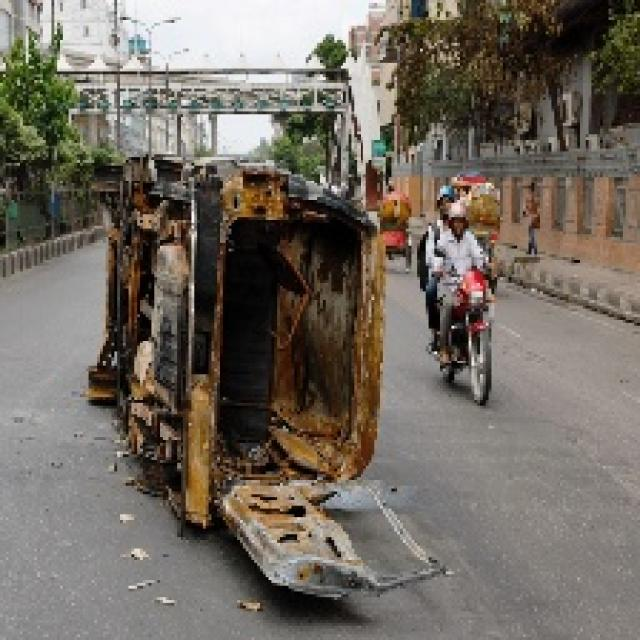bike: (423, 261, 500, 415)
rickshaw: (378, 182, 415, 277)
